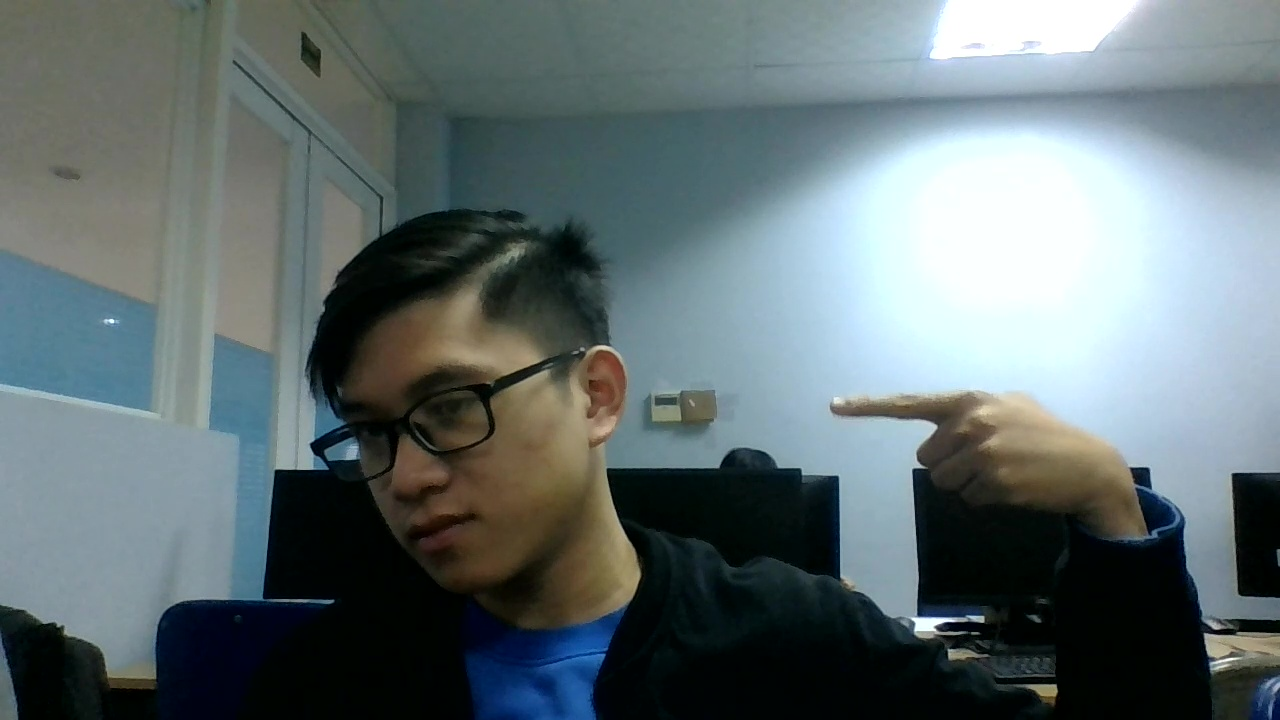right: (834, 387, 1147, 516)
